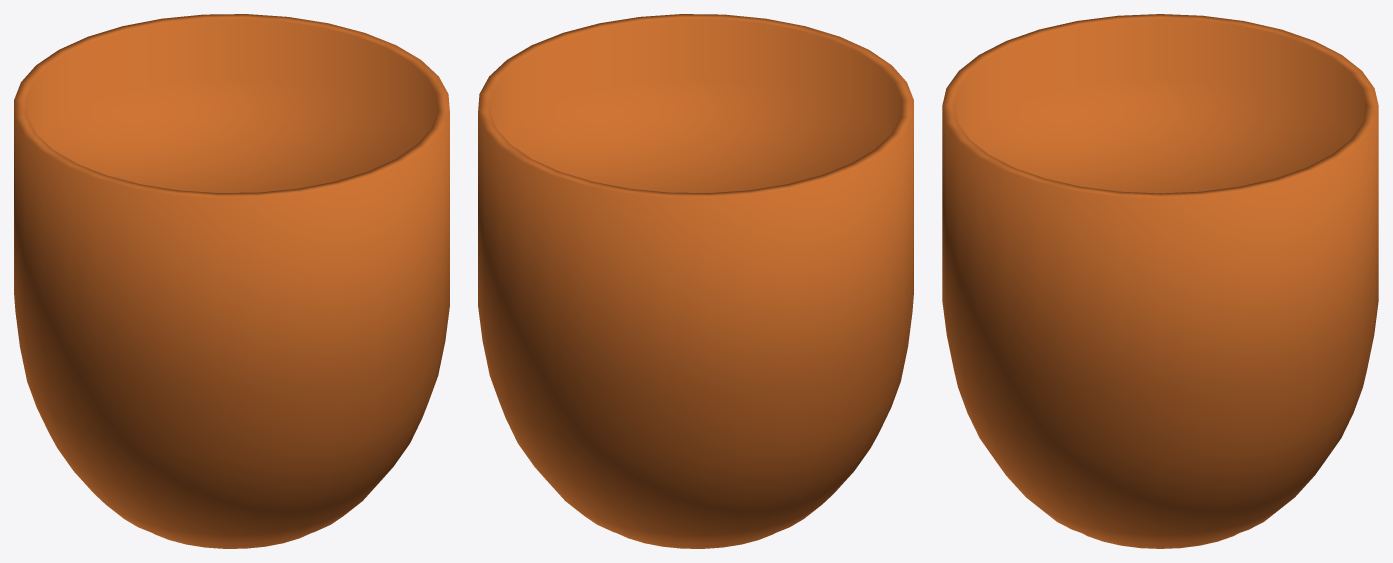
Rendered from leafVase.obj.
3 renders of one model, left to right at view 1: azimuth 30°, elevation 25°; view 2: azimuth 150°, elevation 25°; view 3: azimuth 270°, elevation 25°, orthographic.
Visible parts, largest first — view 1: Pot_LP; view 2: Pot_LP; view 3: Pot_LP.
Boxes of the visible parts, x1,y1,x2,y2 form: Pot_LP: (14, 14, 449, 548); Pot_LP: (478, 14, 913, 548); Pot_LP: (942, 14, 1378, 548).
Bounding box in the file's own units: 0.334 × 0.3369 × 0.334.
